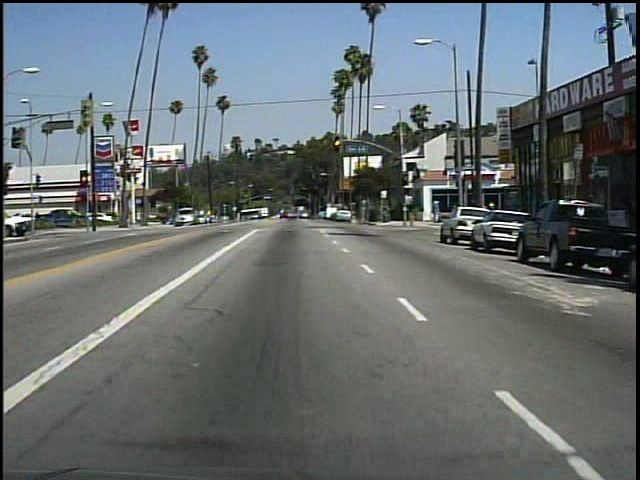person: (429, 198, 445, 224)
